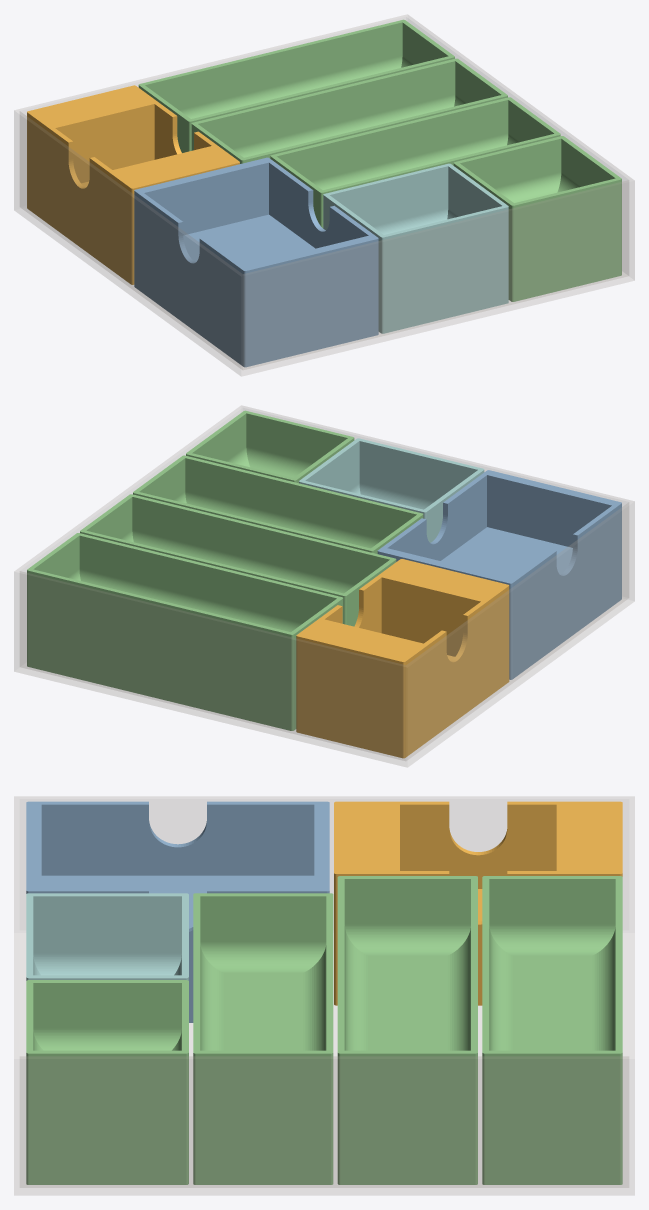
The model's file is organizer.glb.
3 views of the same model, one above another, from view 1: azimuth 30°, elevation 25°; view 2: azimuth 150°, elevation 25°; view 3: azimuth 270°, elevation 25° (orthographic). The views are drawn at different scales.
Visible parts, largest first — view 1: Game box (preview only), Playing cards, Square tiles, Dice and tokens, Red meeples, Yellow meeples, Green meeples, Blue meeples; view 2: Game box (preview only), Yellow meeples, Square tiles, Playing cards, Green meeples, Blue meeples, Dice and tokens, Red meeples; view 3: Game box (preview only), Yellow meeples, Green meeples, Blue meeples, Red meeples, Playing cards, Square tiles, Dice and tokens.
Part boxes in pixels (x1,y1,x2,y2): Game box (preview only): [14, 14, 634, 376]; Playing cards: [134, 157, 378, 367]; Square tiles: [27, 85, 239, 284]; Dice and tokens: [323, 163, 508, 333]; Red meeples: [453, 136, 621, 301]; Yellow meeples: [138, 19, 454, 152]; Green meeples: [191, 58, 507, 163]; Blue meeples: [270, 97, 560, 228]; Game box (preview only): [14, 405, 634, 767]; Yellow meeples: [27, 533, 343, 730]; Square tiles: [296, 559, 509, 758]; Playing cards: [377, 470, 621, 679]; Green meeples: [80, 494, 396, 626]; Blue meeples: [133, 455, 423, 553]; Dice and tokens: [299, 438, 484, 542]; Red meeples: [186, 410, 354, 483]; Game box (preview only): [14, 796, 634, 1195]; Yellow meeples: [482, 876, 622, 1184]; Green meeples: [337, 876, 477, 1184]; Blue meeples: [193, 893, 333, 1184]; Red meeples: [26, 980, 188, 1184]; Playing cards: [26, 801, 329, 1022]; Square tiles: [334, 801, 622, 1005]; Dice and tokens: [26, 893, 188, 980].
Size of the model in its own units: 0.214 by 0.052 by 0.214.
